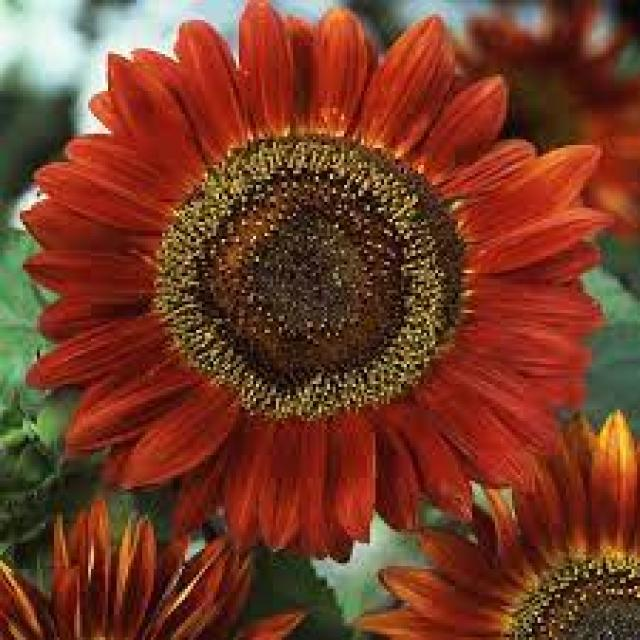sunflower: (11, 0, 617, 571), (371, 0, 640, 266), (347, 403, 640, 640), (0, 478, 313, 640)
